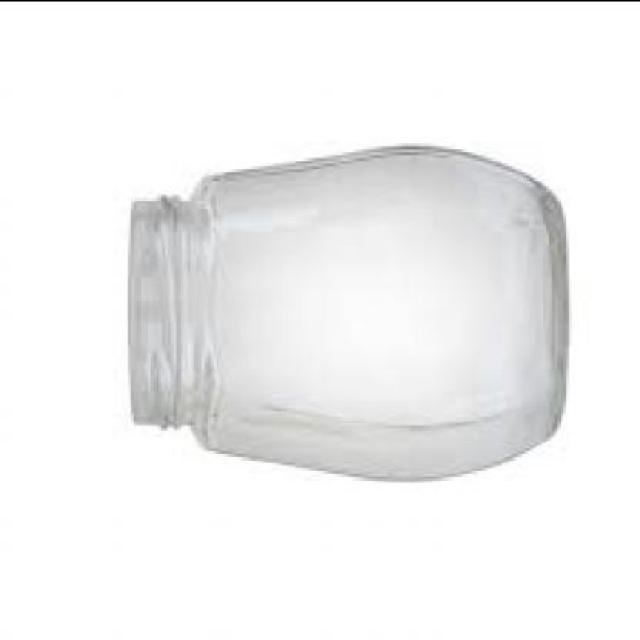GLASS: (125, 142, 562, 484)
